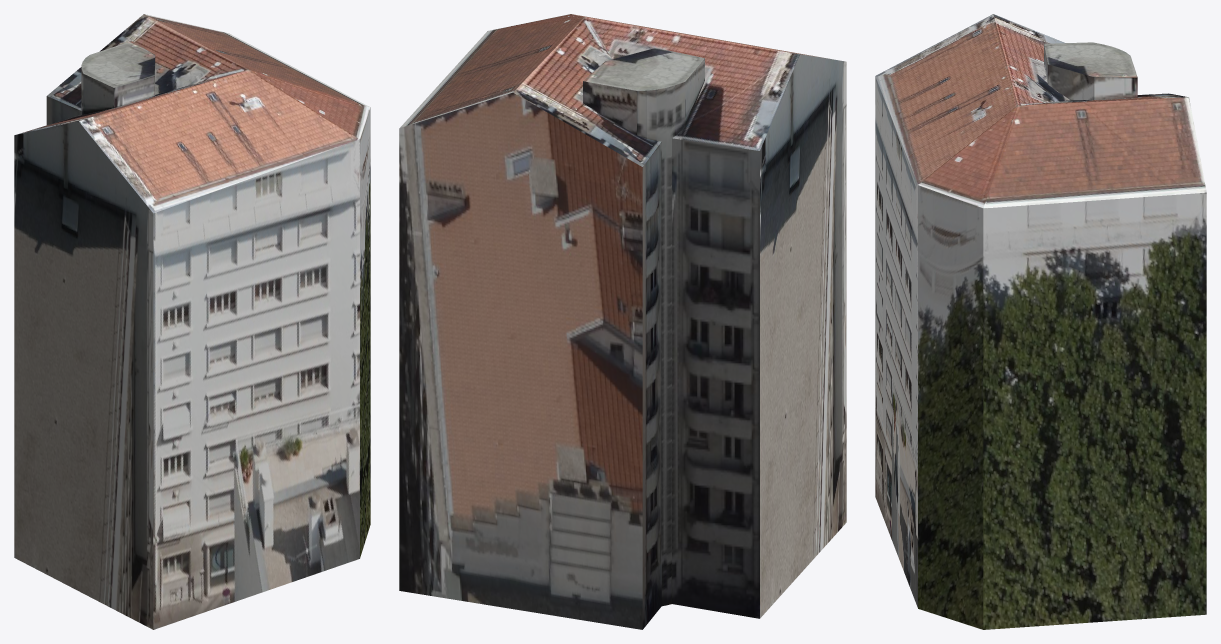
The picture shows the model from 3 angles, left to right: view 1: azimuth 30°, elevation 25°; view 2: azimuth 150°, elevation 25°; view 3: azimuth 270°, elevation 25°; orthographic projection. The views are drawn at different scales.
Parts seen in each view (by area): view 1: Z_UP; view 2: Z_UP; view 3: Z_UP.
Boxes of the visible parts, x1=… form: Z_UP: x1=14, y1=14, x2=370, y2=629; Z_UP: x1=399, y1=14, x2=846, y2=629; Z_UP: x1=875, y1=14, x2=1206, y2=629.
Bounding box in the file's own units: 20.9 × 31.2 × 19.74.
2 materials, 1 textured.
